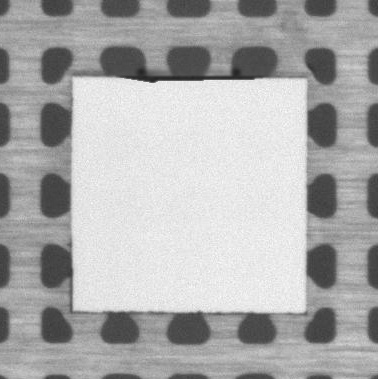DIE_BROKEN: (115, 71, 265, 84)
